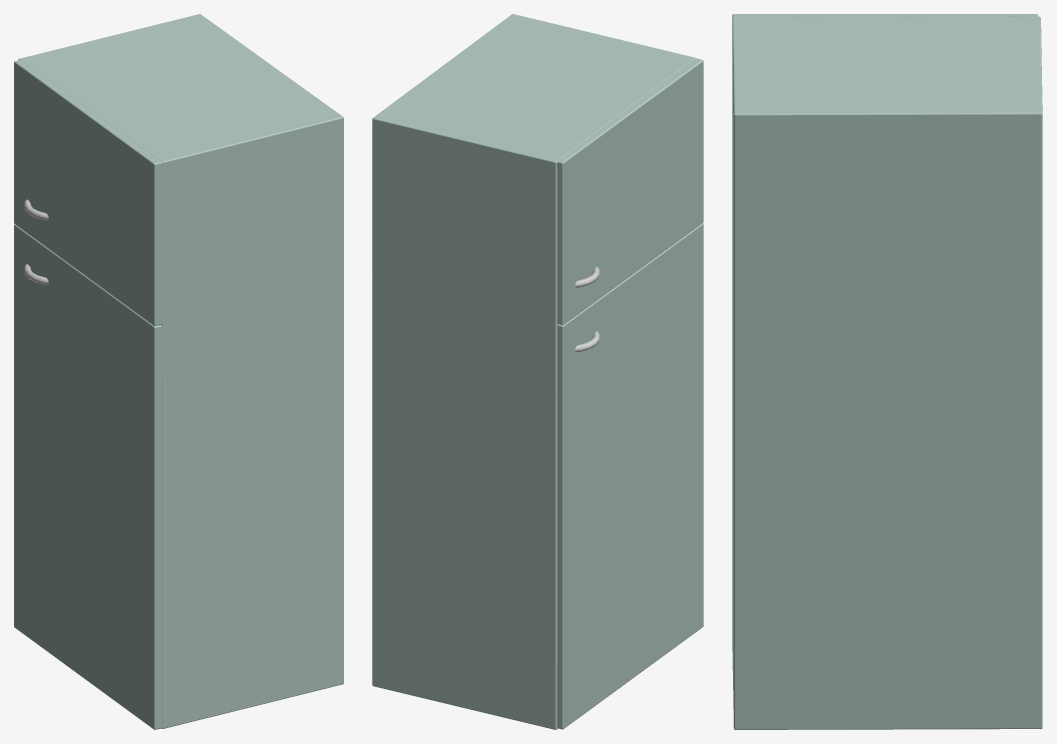
The model's file is fridge.fbx.
3 renders of one model, left to right at view 1: azimuth 30°, elevation 25°; view 2: azimuth 150°, elevation 25°; view 3: azimuth 270°, elevation 25°, orthographic. The views are drawn at different scales.
Visible parts, largest first — view 1: fridge; view 2: fridge; view 3: fridge.
Part boxes in pixels (box(x1,y1,x2,y2)): fridge: box(14, 14, 343, 729); fridge: box(372, 14, 703, 729); fridge: box(732, 14, 1042, 729).
Bounding box in the file's own units: 1.59 × 4.32 × 1.97.
